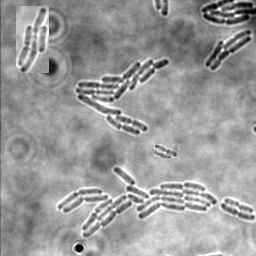Dividing: (219, 204, 255, 222), (223, 199, 253, 215), (154, 144, 178, 158)
Microcolony: (57, 167, 216, 238), (75, 59, 169, 136), (16, 6, 49, 73), (204, 30, 251, 72), (200, 1, 255, 26)
